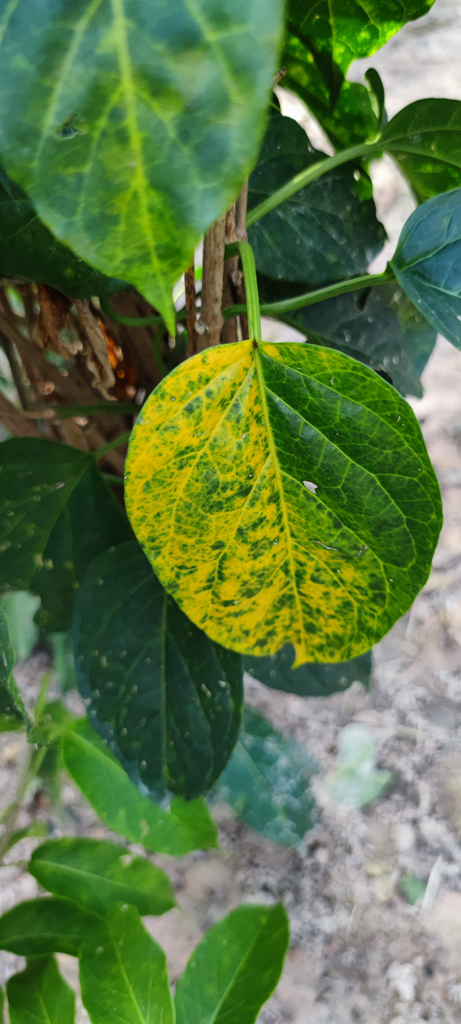Pepper yellow leaf: (118, 337, 362, 696)
